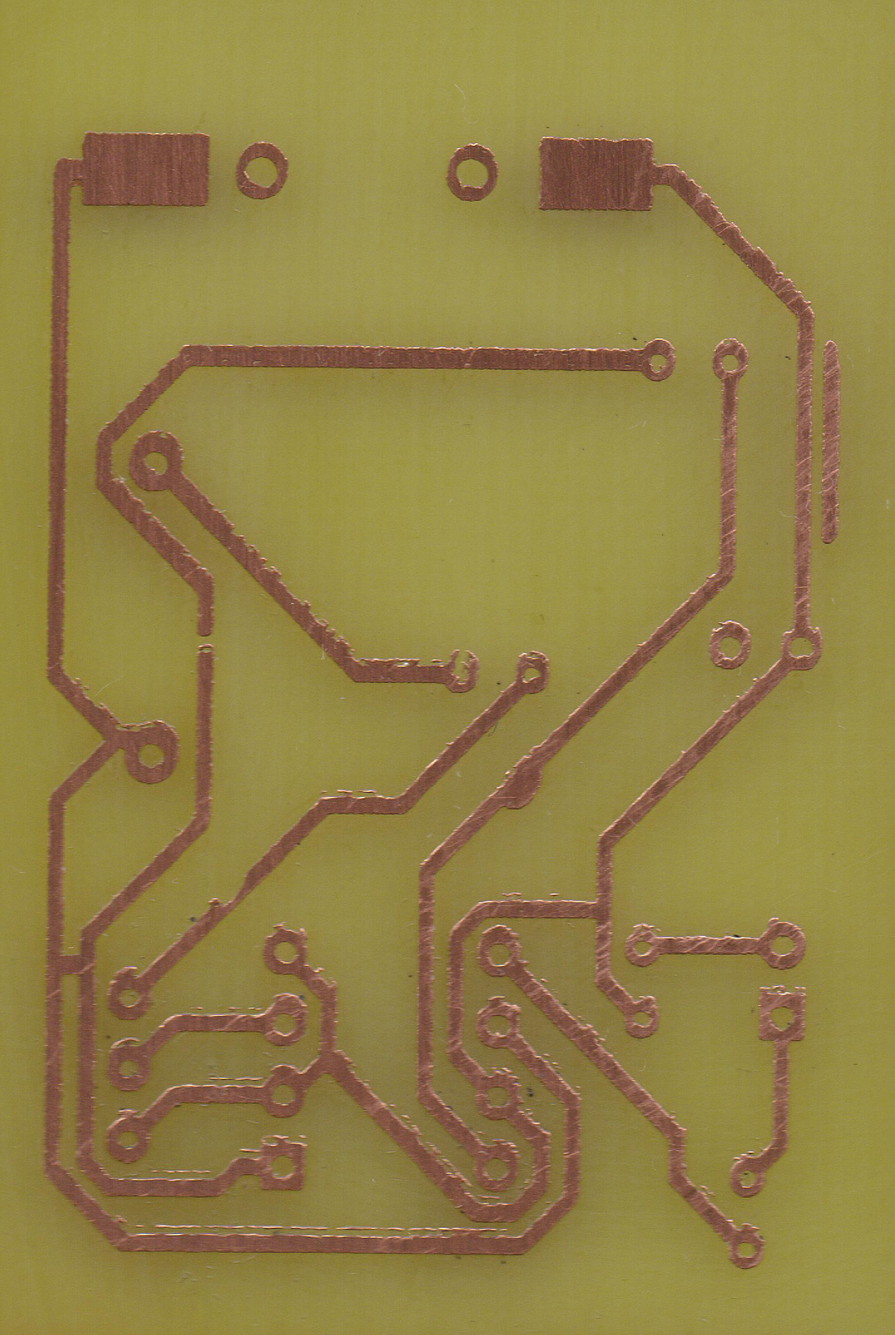missing_hole: (433, 646, 483, 698)
mouse_bite: (206, 867, 261, 914)
open_circuit: (191, 622, 222, 661)
short: (39, 949, 101, 988)
spur: (488, 757, 549, 814)
spurious_copper: (819, 335, 845, 553)
